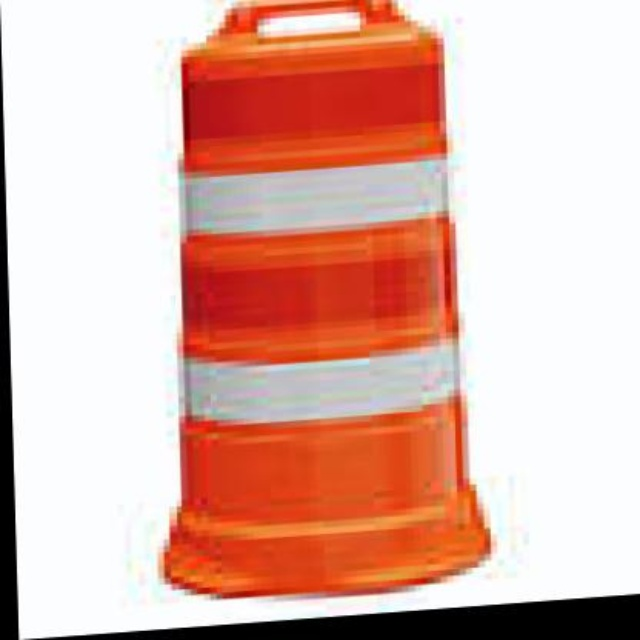obstacle: (167, 0, 488, 618)
